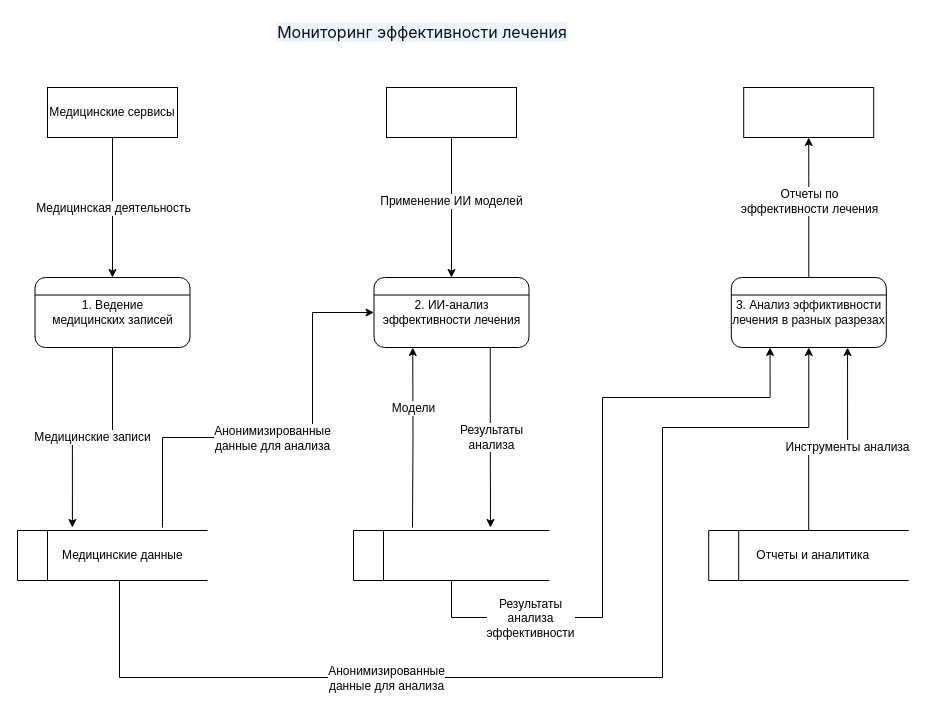
The diagram is 927 pixels wide and 710 high, and some of its shapes have lost their labels. Here are the shapes that lost their labels. From the top down, the centre of each, then its label:
At (x=451, y=112): "ИИ сервисы".
At (x=808, y=112): "Домен аналитики".
At (x=451, y=555): "ИИ модели и результаты анализа".
